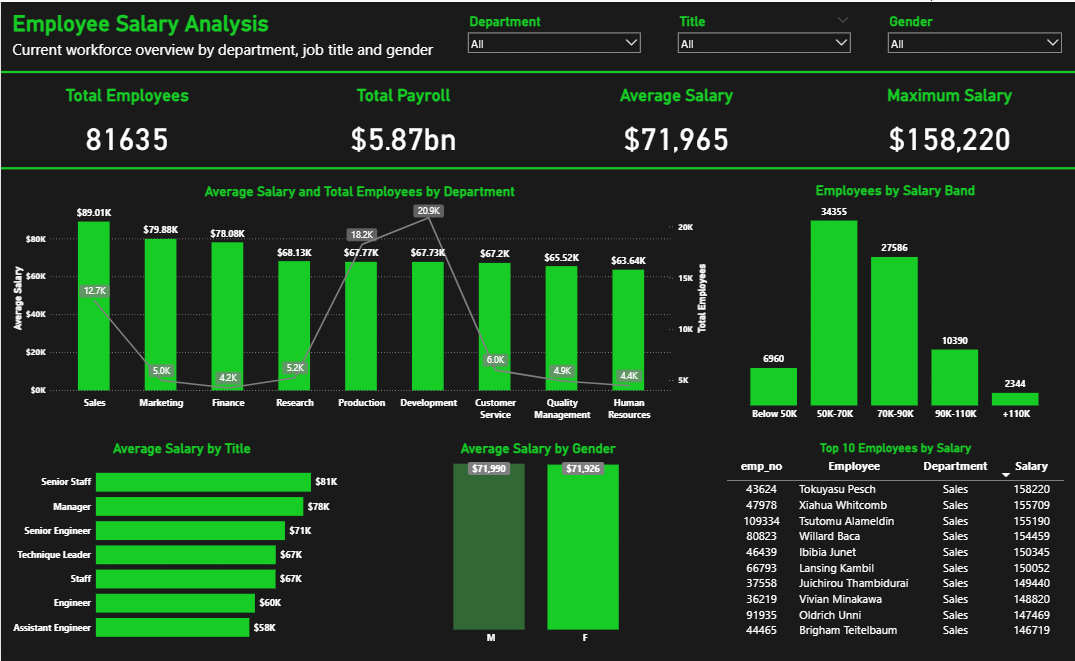

The dashboard page shown, as its layout file describes it:
{"tool":"powerbi","page":{"name":"Page 1","canvas":[1920,1180],"ordinal":0},"visuals":[{"type":"textbox","title":"Employee Salary Analysis","box":[15.6,15.6,770.2,209.9],"z":0},{"type":"slicer","fields":{"Values":["departments.dept_name"]},"box":[823.8,15.6,328.2,107.2],"z":1000},{"type":"slicer","fields":{"Values":["title.title"]},"box":[1198.9,15.6,328.2,107.2],"z":2000},{"type":"slicer","fields":{"Values":["salary report.gender"]},"box":[1574,15.6,330.4,107.2],"z":3000},{"type":"card","title":"Total Employees","fields":{"Values":["salary report.Total Employees"]},"box":[15.6,149.6,419.7,147.3],"z":4000},{"type":"card","title":"Total Payroll","fields":{"Values":["salary report.Total Payroll"]},"box":[509,149.6,419.7,149.6],"z":5000},{"type":"card","title":"Maximum Salary","fields":{"Values":["salary report.Max salary"]},"box":[1484.7,149.6,419.7,147.3],"z":6000},{"type":"card","title":"Average Salary","fields":{"Values":["salary report.Average Salary"]},"box":[995.7,149.6,422,149.6],"z":7000},{"type":"clusteredBarChart","title":"Average Salary by Title","fields":{"Category":["title.title"],"Y":["salary report.Average Salary"]},"box":[15.6,782.6,615,373.6],"z":8000},{"type":"lineClusteredColumnComboChart","title":"Average Salary and Total Employees by Department","fields":{"Category":["departments.dept_name"],"Y2":["salary report.Total Employees"],"Y":["salary report.Average Salary"]},"box":[15.6,323.7,1250.2,433.1],"z":9000},{"type":"clusteredColumnChart","title":"Employees by Salary Band","fields":{"Category":["salary report.Salary Band"],"Y":["salary report.Total Employees"]},"box":[1290.4,321.5,614,435.3],"z":10000},{"type":"clusteredColumnChart","title":"Average Salary by Gender","fields":{"Y":["salary report.Average Salary"],"Category":["salary report.gender"]},"box":[652.6,782.6,615,373.6],"z":11000},{"type":"tableEx","title":"Top 10 Employees by Salary","fields":{"Values":["salary report.emp_no","salary report.Employee","departments.dept_name","salary report.salary"]},"box":[1289.7,783,615,374],"z":12000},{"type":"shape","box":[0,272.4,1920,49.1],"z":13000},{"type":"shape","box":[0,100.5,1920,49.1],"z":13001}]}

Visuals, with their boxes in screenshot pixels (x1, y1, x2, y2), scaled from the page's 1920x1180 canvas onto the 1075x661 screenshot:
"Employee Salary Analysis" textbox: Rect(9, 9, 440, 126)
slicer - departments.dept_name: Rect(461, 9, 645, 69)
slicer - title.title: Rect(671, 9, 855, 69)
slicer - salary report.gender: Rect(881, 9, 1066, 69)
"Total Employees" card: Rect(9, 84, 244, 166)
"Total Payroll" card: Rect(285, 84, 520, 168)
"Maximum Salary" card: Rect(831, 84, 1066, 166)
"Average Salary" card: Rect(557, 84, 794, 168)
"Average Salary by Title" clusteredBarChart: Rect(9, 438, 353, 648)
"Average Salary and Total Employees by Department" lineClusteredColumnComboChart: Rect(9, 181, 709, 424)
"Employees by Salary Band" clusteredColumnChart: Rect(722, 180, 1066, 424)
"Average Salary by Gender" clusteredColumnChart: Rect(365, 438, 710, 648)
"Top 10 Employees by Salary" tableEx: Rect(722, 439, 1066, 648)
shape: Rect(0, 153, 1074, 180)
shape: Rect(0, 56, 1074, 84)
